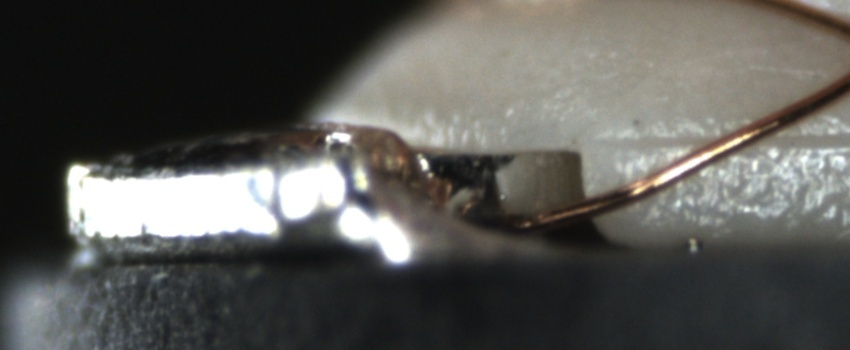DL: (594, 109, 839, 166)
TE: (360, 118, 455, 204)
